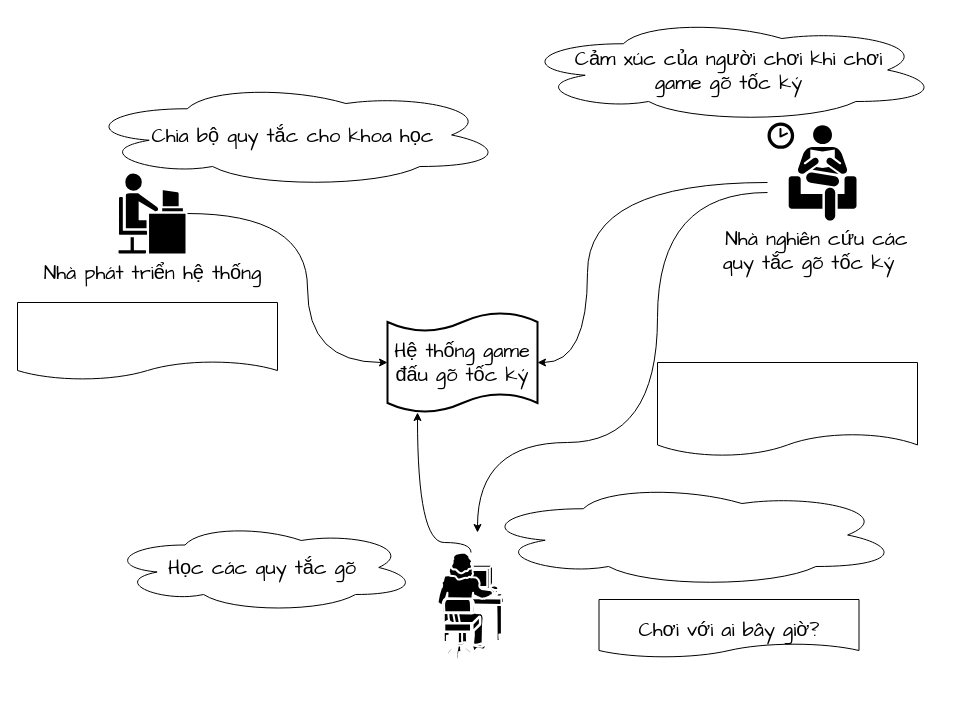
The diagram is 958 pixels wide and 708 high, and some of its shapes have lost their labels. The centre of each missing label's shape, as x and y in pixels:
"Chia thế nào bây giờ ?" goes at [147,342].
"Làm thế nào để người chơi tự nhiên nhất?" goes at [787,411].
"Muốn gõ tốc ký cùng bạn bè" goes at [688,535].
"Người chơi hệ gõ" goes at [470,605].
